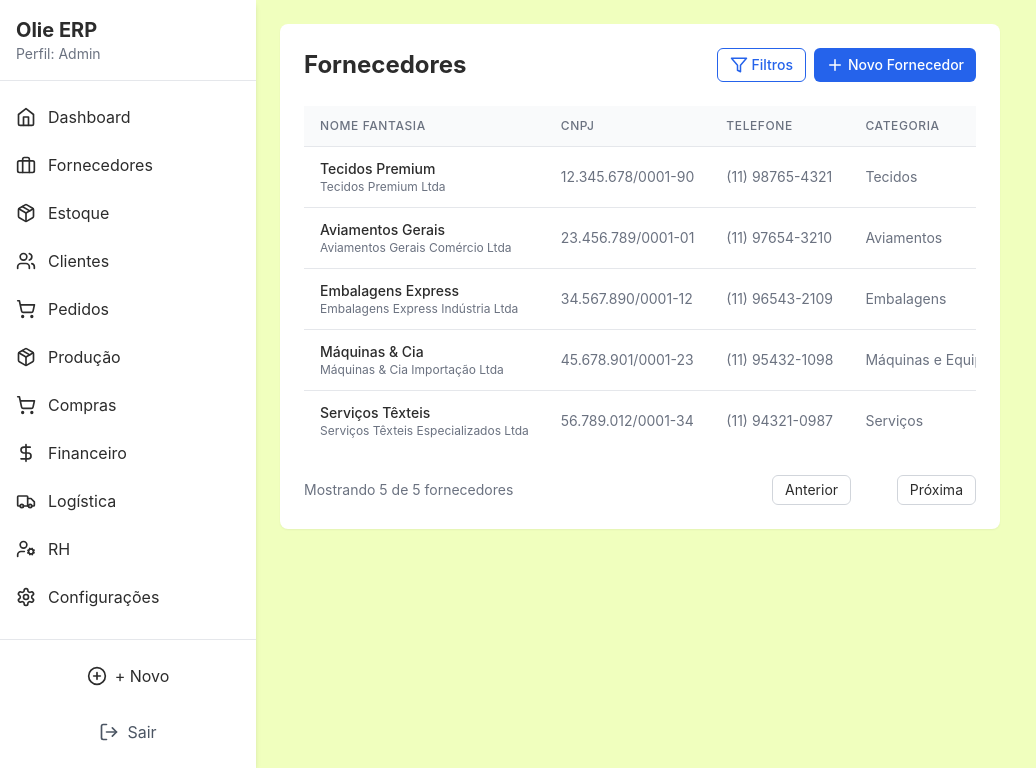
Test: FornecedorListPage › deve exibir e ocultar o painel de filtros ao clicar no botão
The image size is (1036, 768).
Expected: the text "Filtrar Fornecedores" is not shown
// Clica no botão de filtros
Click the button "Filtros": (761, 65) [717,48,806,82]
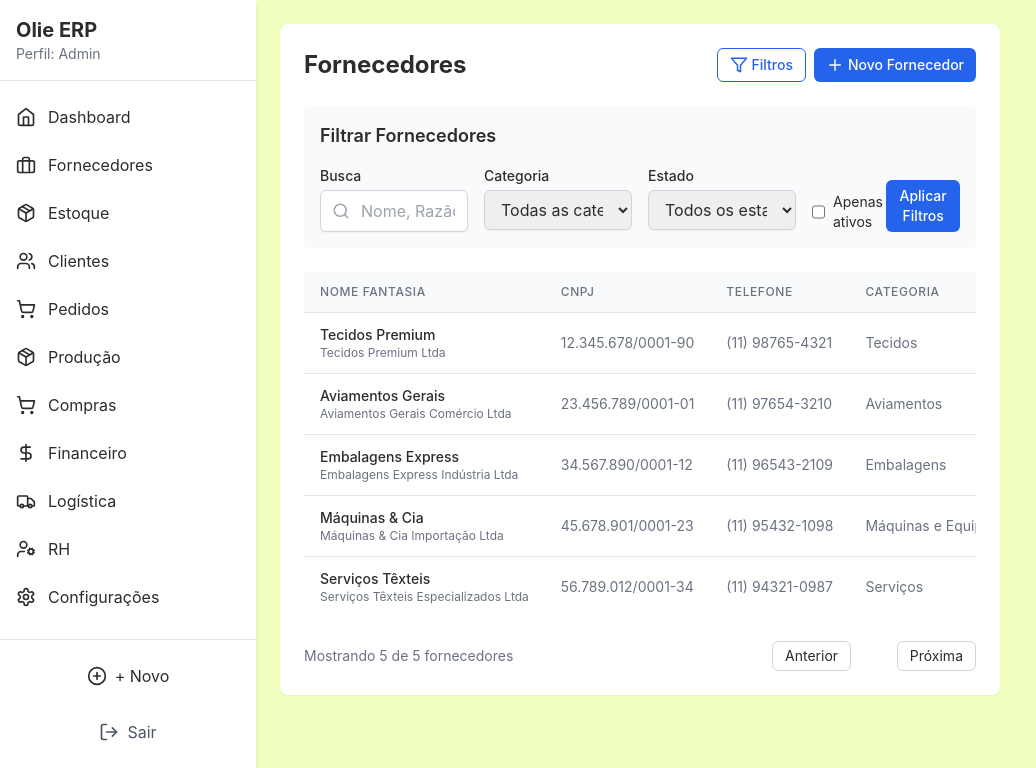
Now the heading "Filtrar Fornecedores" is shown, box [320,125,496,146]
Now the button "Aplicar Filtros" is shown, box [886,180,960,232]
// Clica novamente no botão de filtros
Click the button "Filtros": (761, 65) [717,48,806,82]
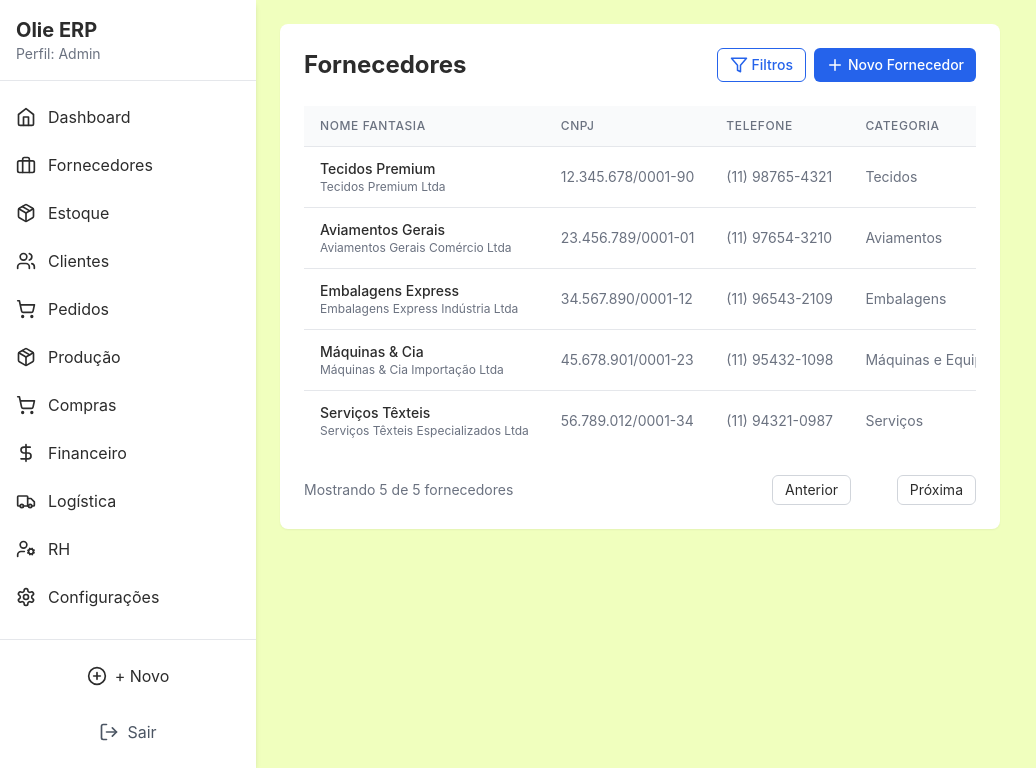
Now the heading "Filtrar Fornecedores" is gone
